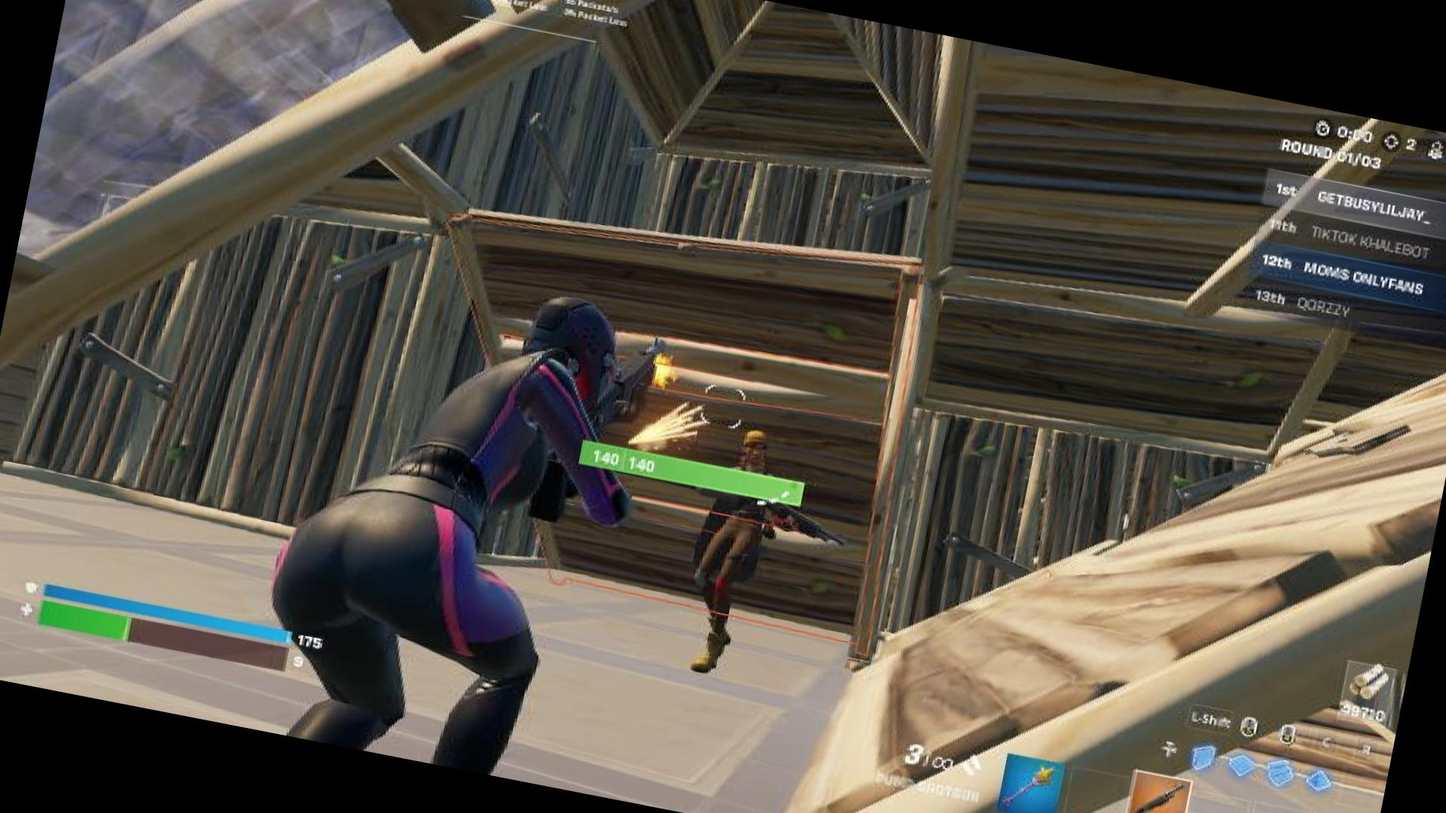player: (654, 414, 818, 688)
